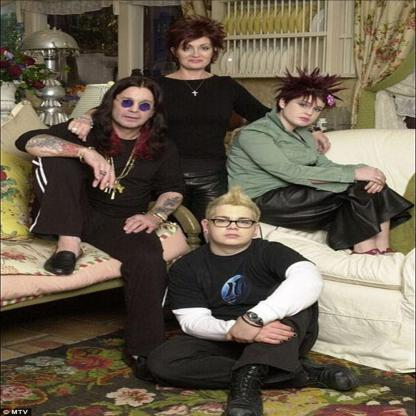face: (216, 208, 255, 245), (115, 89, 152, 127), (290, 95, 324, 125), (181, 38, 212, 70)
